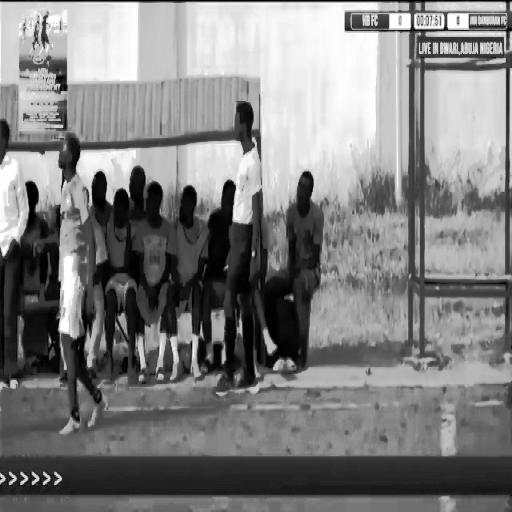referee: (225, 95, 262, 402)
team1: (58, 132, 104, 428)
